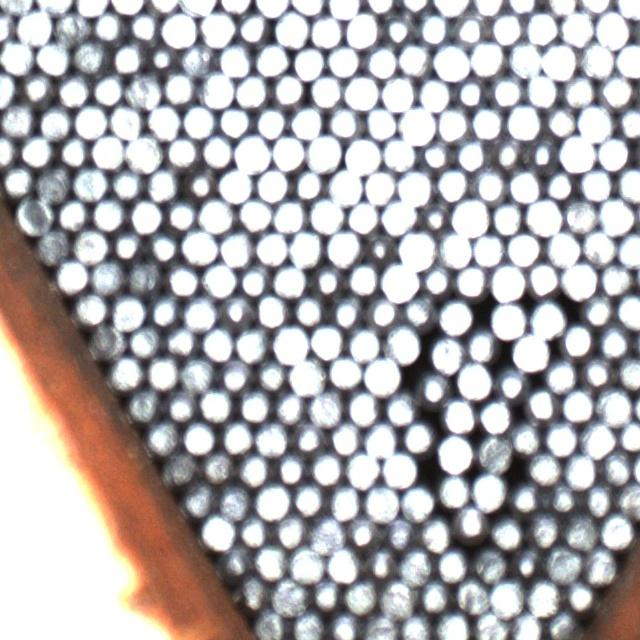tool: (363, 356, 400, 393), (383, 325, 420, 362), (14, 196, 52, 232), (561, 260, 597, 298), (544, 229, 581, 265), (380, 263, 417, 299), (452, 198, 488, 235), (529, 300, 565, 337), (289, 357, 325, 394), (594, 10, 630, 47), (198, 196, 234, 233), (345, 388, 382, 424), (526, 197, 562, 234), (488, 262, 524, 299), (491, 302, 527, 339), (88, 322, 125, 358), (582, 547, 618, 584), (305, 134, 341, 170), (470, 231, 506, 267), (559, 134, 595, 170), (200, 10, 236, 46), (218, 230, 254, 266), (344, 136, 380, 172), (344, 11, 380, 47), (597, 388, 633, 424), (346, 326, 382, 362), (53, 196, 89, 232), (272, 512, 308, 548), (399, 231, 435, 267), (506, 230, 542, 266), (180, 228, 216, 264), (254, 482, 290, 518), (454, 578, 490, 614), (598, 260, 634, 296), (16, 8, 52, 44), (432, 44, 468, 80), (198, 70, 234, 106), (362, 104, 398, 140), (308, 450, 344, 486), (161, 11, 197, 47), (401, 292, 437, 328), (546, 546, 582, 582), (35, 165, 71, 201), (308, 516, 344, 552), (236, 196, 272, 232), (289, 546, 325, 582), (472, 546, 508, 582), (526, 260, 561, 297), (273, 324, 308, 361), (513, 333, 548, 370), (216, 102, 252, 137), (470, 104, 505, 140), (578, 104, 613, 140), (126, 72, 161, 108), (400, 484, 435, 520), (126, 134, 161, 170), (90, 132, 125, 168), (399, 106, 434, 142), (452, 10, 488, 45), (379, 579, 414, 615), (54, 72, 89, 108), (308, 12, 343, 48), (127, 258, 162, 294), (90, 258, 125, 294), (274, 11, 309, 47), (270, 134, 305, 170), (596, 134, 631, 170), (344, 198, 380, 233), (254, 229, 289, 265), (217, 356, 252, 392), (598, 72, 633, 108), (559, 387, 595, 422), (234, 134, 269, 170), (380, 74, 415, 110), (345, 260, 380, 296), (307, 389, 342, 425), (434, 106, 469, 142), (272, 197, 307, 233), (90, 196, 126, 231), (476, 434, 511, 470), (580, 421, 616, 456), (380, 198, 416, 233), (54, 9, 90, 44), (72, 165, 108, 200), (524, 72, 560, 107), (271, 578, 306, 614), (364, 484, 399, 520), (416, 9, 451, 45), (522, 385, 558, 420), (217, 166, 253, 201), (524, 132, 559, 168), (54, 257, 89, 293), (308, 197, 343, 233), (600, 512, 635, 548), (72, 39, 108, 74), (579, 41, 614, 77), (108, 165, 144, 200), (562, 196, 597, 232), (200, 448, 235, 484), (397, 169, 432, 205), (218, 419, 254, 454), (398, 549, 434, 584), (288, 230, 323, 266), (562, 452, 597, 488), (344, 511, 380, 546), (437, 231, 472, 267), (440, 396, 475, 432), (419, 260, 454, 296), (110, 294, 145, 330), (34, 228, 70, 263), (489, 580, 524, 616), (108, 354, 143, 390), (416, 368, 451, 404), (437, 434, 471, 471), (292, 480, 327, 515), (381, 135, 416, 170), (506, 103, 541, 138), (18, 133, 53, 168), (381, 451, 416, 486), (524, 10, 559, 45), (543, 357, 578, 392), (453, 502, 488, 537), (165, 261, 200, 296), (471, 474, 506, 509), (289, 104, 324, 139), (73, 227, 108, 262), (526, 512, 561, 547), (328, 354, 363, 389), (345, 451, 380, 486), (560, 73, 595, 108), (272, 388, 307, 423), (417, 577, 452, 612), (37, 104, 72, 139), (597, 323, 632, 358), (327, 168, 362, 203), (308, 324, 343, 359), (234, 326, 269, 361), (469, 40, 504, 75), (543, 103, 578, 138), (290, 418, 325, 453), (108, 104, 143, 139), (308, 576, 343, 611), (146, 418, 181, 453), (181, 480, 216, 515), (363, 422, 398, 457), (383, 391, 418, 426), (489, 133, 524, 168), (199, 386, 233, 422), (454, 262, 488, 298), (344, 578, 378, 614), (526, 579, 560, 615), (430, 336, 464, 372), (146, 354, 180, 390), (582, 228, 616, 264), (0, 38, 34, 74), (598, 197, 632, 233), (343, 74, 379, 108), (456, 362, 490, 398), (382, 8, 416, 44), (558, 322, 594, 356), (290, 164, 324, 200), (234, 72, 268, 108), (542, 42, 576, 78), (477, 397, 511, 433), (236, 9, 270, 45), (544, 419, 578, 455), (90, 7, 126, 41), (144, 166, 180, 200), (508, 544, 544, 578), (488, 72, 522, 108), (564, 513, 598, 549), (237, 261, 271, 297), (416, 198, 452, 232), (560, 9, 594, 44), (202, 262, 236, 297), (328, 484, 362, 519), (200, 132, 234, 167), (326, 230, 360, 265), (146, 103, 180, 138), (181, 103, 215, 138), (416, 76, 451, 110), (272, 263, 307, 297), (180, 357, 214, 392), (254, 543, 288, 578), (326, 104, 361, 138), (128, 198, 162, 233), (91, 71, 125, 106), (127, 324, 162, 358), (73, 103, 107, 138), (201, 325, 235, 360), (164, 133, 199, 167), (417, 517, 452, 551), (254, 167, 289, 201), (580, 353, 614, 388), (382, 514, 417, 548), (308, 73, 342, 108), (254, 42, 289, 76), (291, 292, 326, 326), (56, 134, 90, 169), (578, 166, 613, 200), (165, 322, 199, 357), (253, 421, 288, 455), (488, 10, 522, 45), (271, 72, 306, 106), (164, 386, 198, 421), (545, 479, 580, 513), (181, 420, 216, 454), (582, 481, 616, 516), (507, 168, 542, 202), (435, 166, 469, 201), (326, 546, 360, 581), (494, 364, 529, 398), (180, 41, 214, 76), (363, 44, 398, 78), (326, 43, 361, 77), (147, 292, 182, 326), (581, 292, 616, 326), (274, 450, 308, 485), (509, 480, 543, 515), (434, 547, 468, 582), (217, 42, 252, 76), (36, 39, 70, 74), (471, 167, 506, 201), (438, 299, 472, 334), (110, 227, 145, 261), (490, 199, 524, 234), (362, 168, 397, 202), (397, 42, 432, 76), (161, 70, 196, 104), (364, 293, 398, 328), (144, 39, 179, 73), (236, 452, 271, 486), (362, 228, 396, 263), (454, 136, 488, 170), (0, 102, 34, 136), (201, 514, 235, 548), (255, 292, 289, 326), (254, 104, 288, 138), (218, 485, 252, 519), (291, 44, 325, 78), (508, 42, 542, 76), (127, 386, 161, 420), (127, 8, 161, 42), (453, 74, 487, 108), (162, 450, 196, 484), (73, 290, 107, 324), (600, 450, 634, 484), (418, 136, 452, 170), (255, 358, 289, 392), (163, 197, 197, 231), (219, 292, 253, 326), (182, 296, 216, 330), (329, 421, 363, 455), (237, 388, 271, 422), (542, 166, 576, 200), (19, 70, 53, 104), (330, 294, 364, 328), (400, 419, 434, 453), (488, 515, 522, 549), (364, 545, 398, 579), (310, 262, 344, 296), (436, 473, 470, 507), (182, 166, 216, 200), (464, 328, 498, 362), (236, 574, 270, 608), (252, 607, 287, 640), (147, 228, 180, 263), (238, 513, 271, 548), (563, 578, 596, 613), (528, 450, 561, 484), (111, 39, 144, 73), (510, 421, 543, 455), (473, 609, 509, 640), (1, 163, 34, 196), (545, 609, 580, 640), (328, 609, 362, 640), (291, 610, 326, 640), (220, 542, 252, 574), (509, 611, 544, 640), (435, 611, 470, 640), (399, 612, 434, 640), (361, 613, 397, 640), (615, 354, 640, 390), (615, 42, 640, 77), (616, 292, 640, 328), (616, 232, 640, 267), (616, 166, 640, 201), (616, 418, 640, 452), (616, 105, 640, 138), (617, 482, 640, 516), (326, 0, 362, 18), (254, 0, 290, 16), (0, 8, 16, 42), (470, 0, 506, 15), (290, 0, 326, 15), (432, 0, 468, 15), (542, 0, 578, 15), (180, 0, 216, 15), (0, 70, 15, 106), (74, 0, 108, 15), (506, 0, 540, 15), (0, 134, 15, 168), (578, 0, 614, 14), (217, 0, 253, 14), (36, 0, 72, 14), (363, 0, 397, 14), (398, 0, 432, 13), (110, 0, 144, 13)
